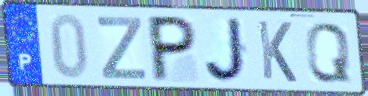0: (47, 12, 91, 82)
J: (202, 16, 251, 85)
K: (255, 18, 299, 85)
P: (149, 13, 199, 84)
Q: (304, 20, 353, 85)
Z: (95, 15, 148, 82)
